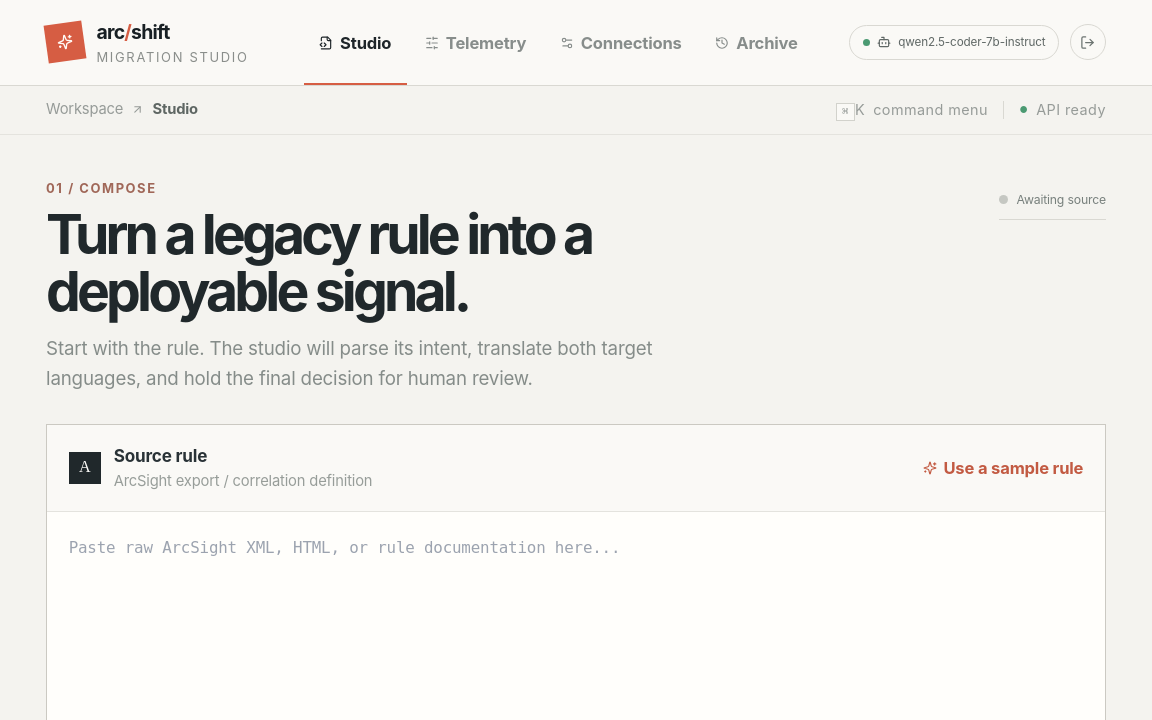
Test: App Component & Tab Navigation › switches to StandaloneTuningView when Live Tuning tab is clicked
This screenshot has width=1152, height=720.
// Click "Live Tuning" tab
Click the button with aria-label "Live Tuning": x=475, y=42 [409,0,542,85]
(page scrolled)
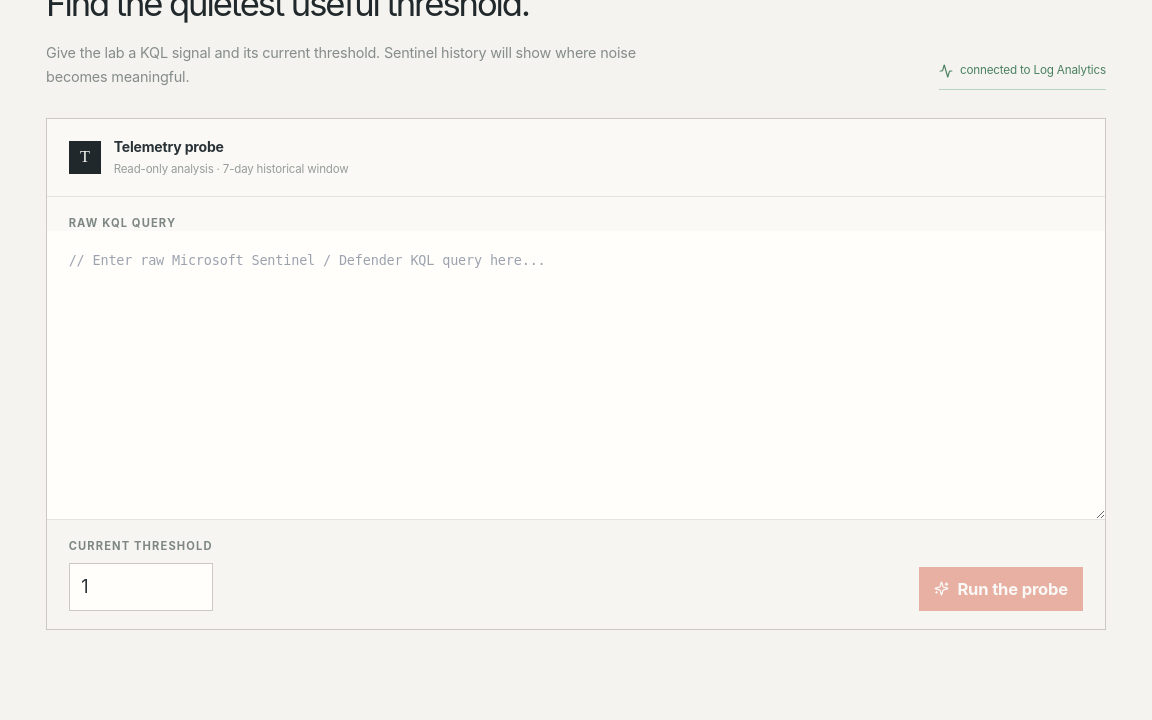
Result: the button with aria-label "Analyze Telemetry" is shown at [919,567,1083,611]
Result: the text box labelled "Raw KQL Query" is shown at [47,231,1105,519]
